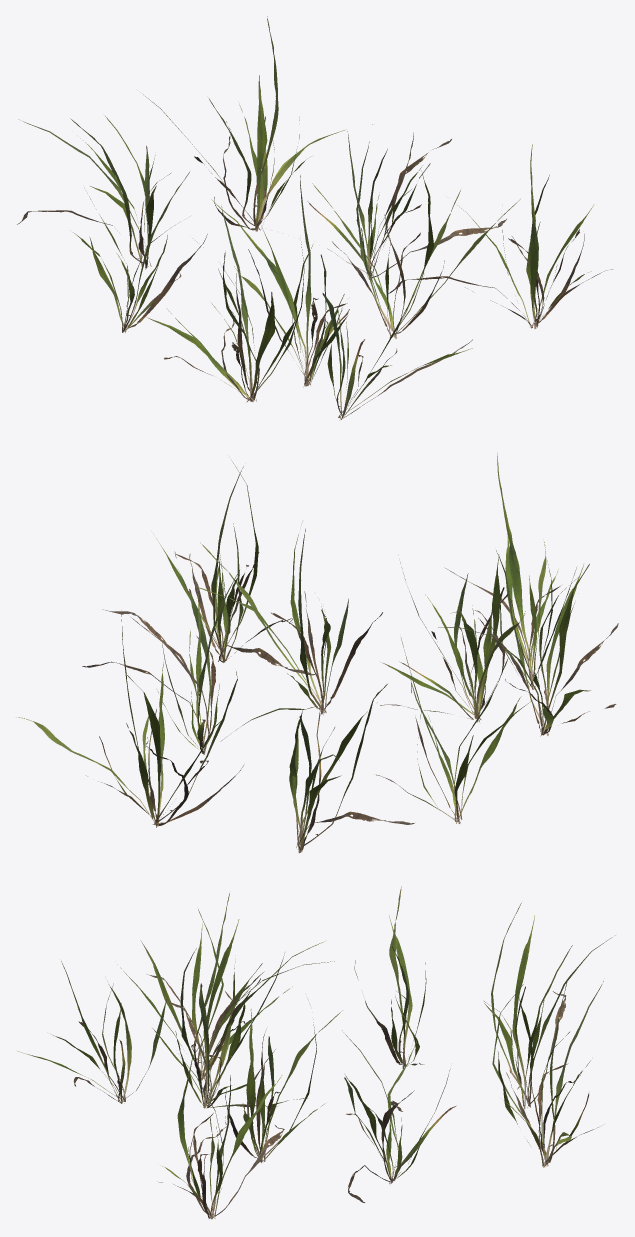
File: Grass_04_Var3_LOD0.fbx
3 views of the same model, one above another, from view 1: azimuth 30°, elevation 25°; view 2: azimuth 150°, elevation 25°; view 3: azimuth 270°, elevation 25° (orthographic). The views are drawn at different scales.
Visible parts, largest first — view 1: Var3_LOD0; view 2: Var3_LOD0; view 3: Var3_LOD0.
Boxes of the visible parts, <box> form: Var3_LOD0: <box>17,16,612,420</box>; Var3_LOD0: <box>16,453,618,853</box>; Var3_LOD0: <box>17,886,615,1219</box>.
Bounding box in the file's own units: 55.58 × 25.16 × 67.05.
